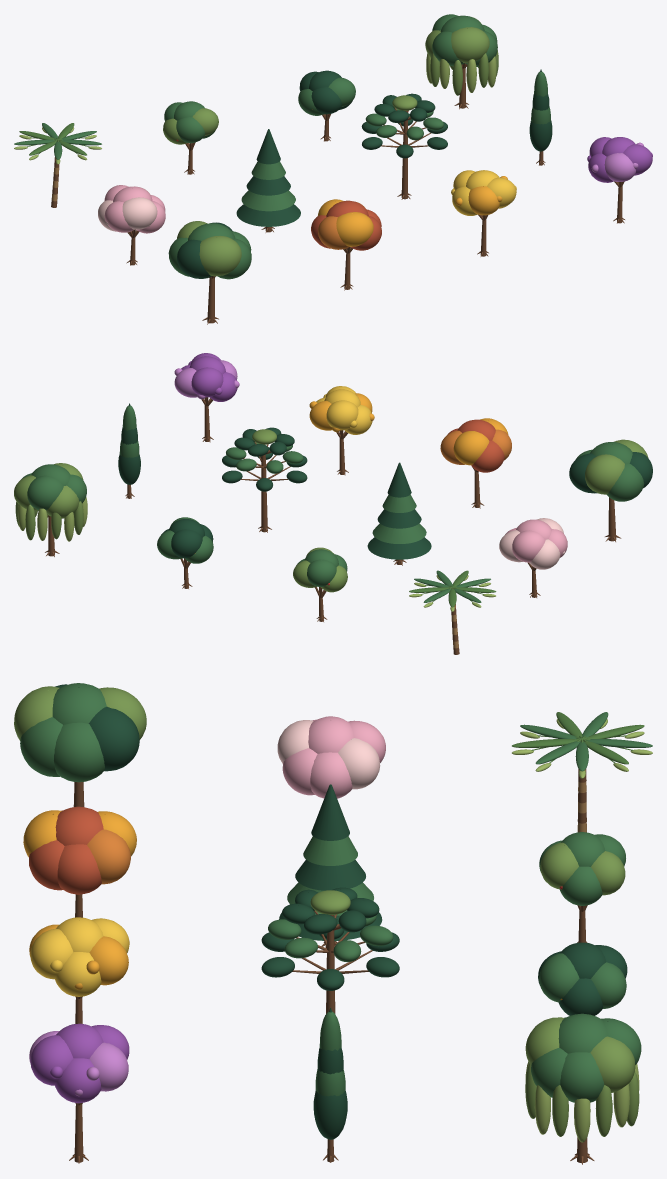
File: trees.glb
3 views of the same model, one above another, from view 1: azimuth 30°, elevation 25°; view 2: azimuth 150°, elevation 25°; view 3: azimuth 270°, elevation 25° (orthographic). The views are drawn at different scales.
Parts seen in each view (by area): view 1: treeOak-lime-18, treeWillow-lime-18, treeMaple-amber-18, treePine-dark-7, treeCherry-blush-18, treeOak-dark-16, treePine-leaf-8, treeIpeYellow-amber-16, treeIpePurple-lilac-16, treePine-dark-9, treeMaple-orange-16, treeOrange-dark-16 (+14 smaller); view 2: treeOak-lime-12, treePine-dark-7, treeWillow-leaf-12, treeOak-leaf-14, treeMaple-amber-12, treePine-leaf-8, treeCherry-pink-12, treeIpeYellow-gold-12, treeIpePurple-purple-12, treeOrange-dark-12, treeMaple-red-14, treeApple-leaf-12 (+14 smaller); view 3: treeOak-leaf-8, treeOak-dark-10, treeMaple-red-8, treeOak-leaf-21, treeWillow-leaf-8, treeOak-leaf-20, treeWillow-lime-10, treePine-dark-9, treeMaple-orange-10, treeWillow-leaf-21, treeCherry-pink-8, treeMaple-red-21 (+37 smaller).
Part boxes in pixels (x1,y1,x2,y2): treeOak-lime-18: (199,235,241,276); treeWillow-lime-18: (451,27,489,63); treeMaple-amber-18: (336,212,373,246); treePine-dark-7: (236,204,300,226); treeCherry-blush-18: (122,197,157,229); treeOak-dark-16: (177,239,212,278); treePine-leaf-8: (241,190,295,211); treeIpeYellow-amber-16: (468,186,499,215); treeIpePurple-lilac-16: (604,153,635,181); treePine-dark-9: (246,176,290,195); treeMaple-orange-16: (318,216,349,249); treeOrange-dark-16: (311,87,341,114); treeOak-lime-12: (585,454,624,494); treePine-dark-7: (367,537,431,559); treeWillow-leaf-12: (27,475,63,510); treeOak-leaf-14: (606,463,644,501); treeMaple-amber-12: (453,431,489,465); treePine-leaf-8: (372,523,426,543); treeCherry-pink-12: (512,530,545,562); treeIpeYellow-gold-12: (326,400,358,430); treeIpePurple-purple-12: (191,367,223,397); treeOrange-dark-12: (171,529,202,558); treeMaple-red-14: (471,440,504,472); treeApple-leaf-12: (307,559,336,586); treeOak-leaf-8: (54,722,104,782); treeOak-dark-10: (88,706,139,771); treeMaple-red-8: (57,844,101,894); treeOak-leaf-21: (52,683,106,724); treeWillow-leaf-8: (560,1052,604,1102); treeOak-leaf-20: (20,717,62,776); treeWillow-lime-10: (590,1036,635,1092); treePine-dark-9: (295,859,365,890); treeMaple-orange-10: (87,829,130,884); treeWillow-leaf-21: (558,1013,606,1053); treeCherry-pink-8: (310,752,352,798); treeMaple-red-21: (55,806,103,845).
Bounding box in the file's own units: 34.94 × 7.16 × 25.39.
